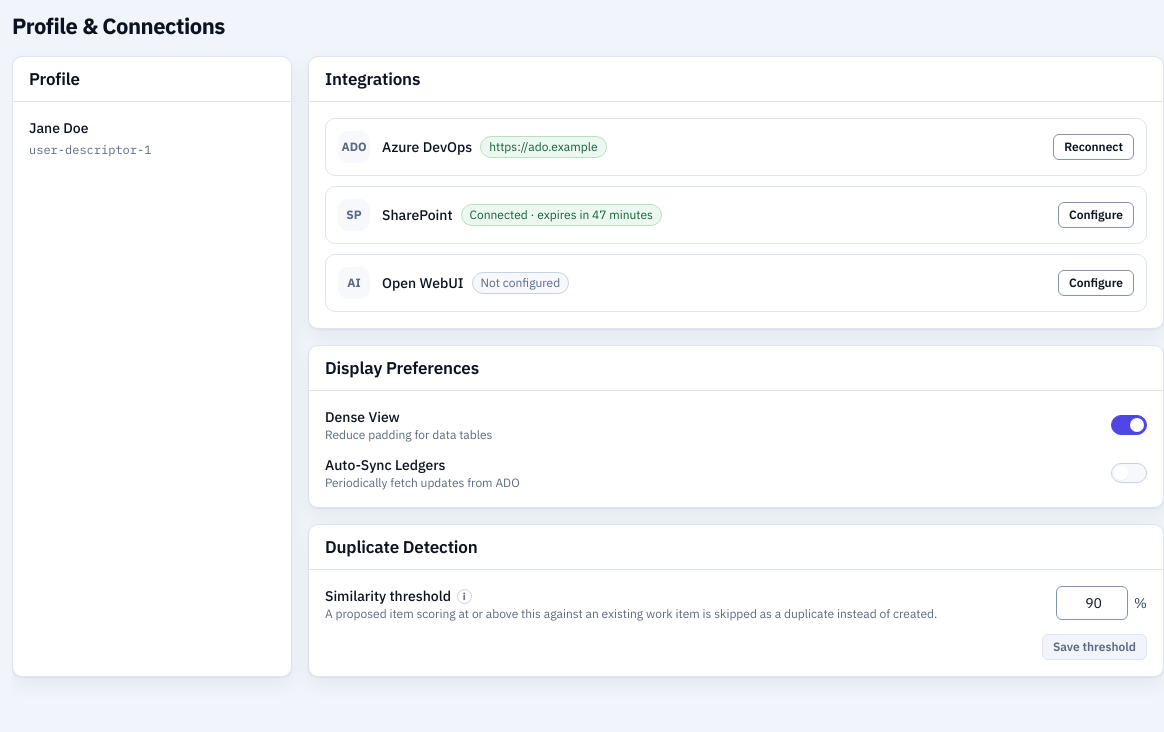
Test: Settings › Duplicate Detection threshold (NEW-07) › shows an inline error and does not crash when the save fails
Replace the text in the number field named "similarity threshold percentage" with "80" at (1092, 603), box x1=1056 y1=586 x2=1128 y2=620
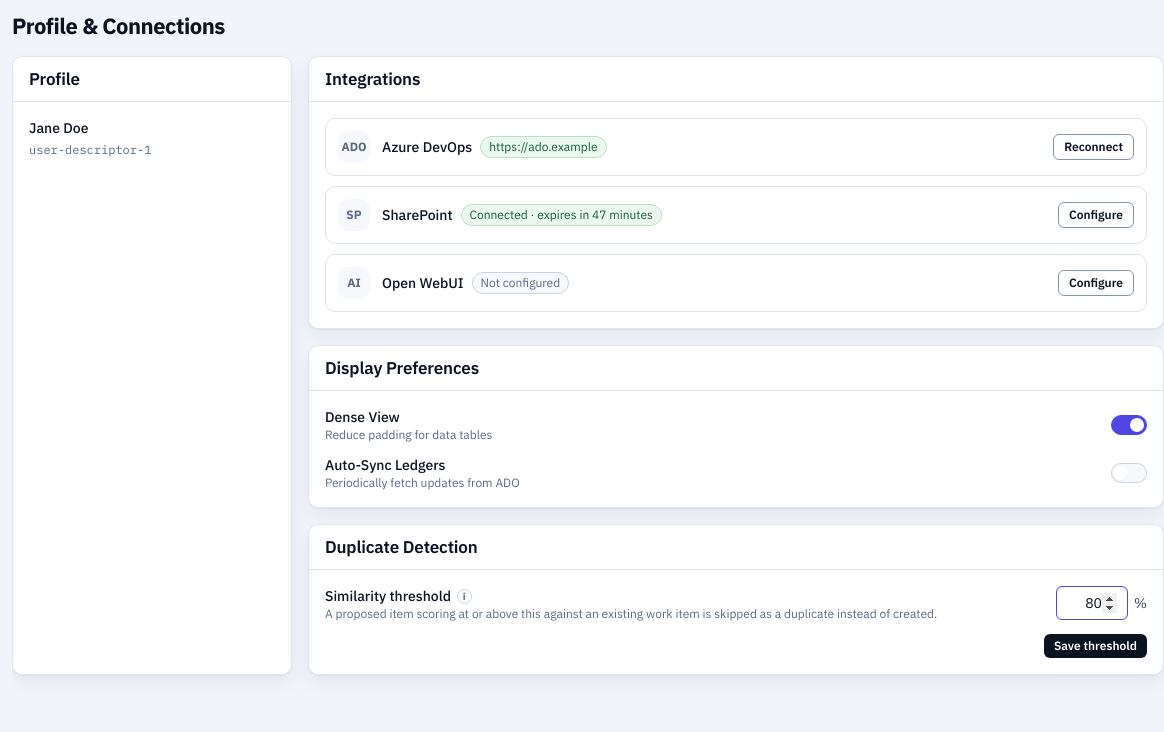
Click the button "Save threshold".
click(1095, 646)  # box x1=1044 y1=634 x2=1147 y2=658
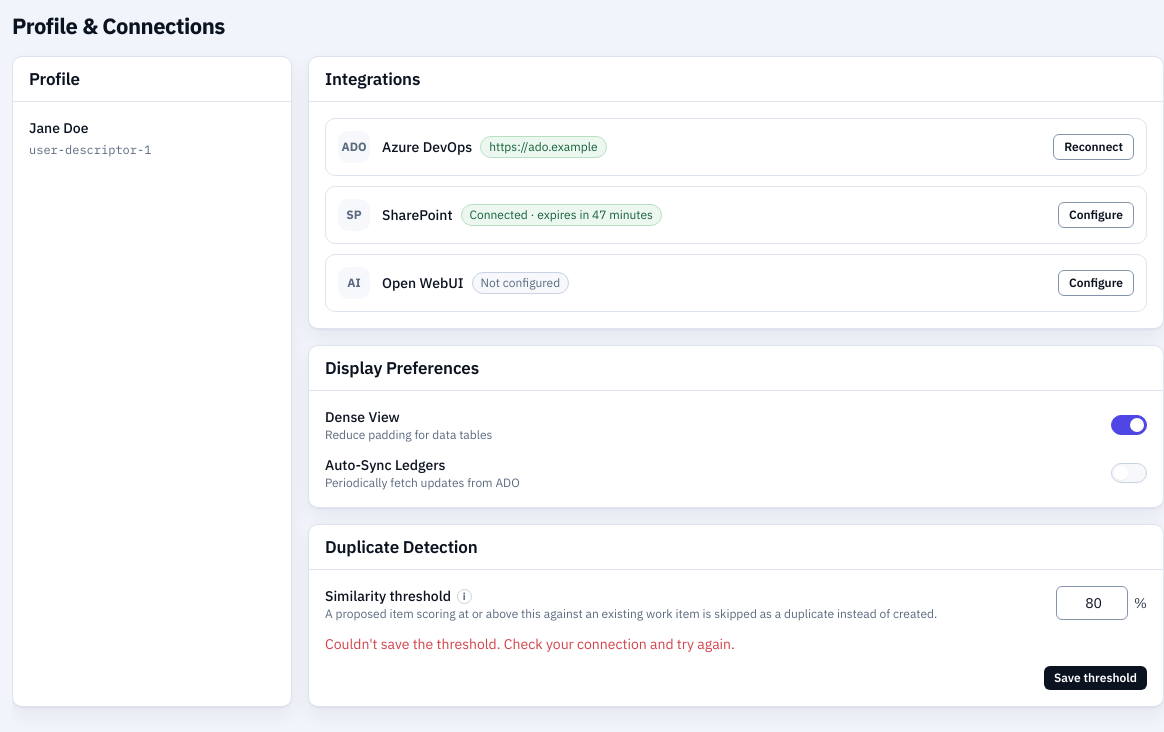
Check: the text "Couldn't save the threshold" is shown, box x1=325 y1=635 x2=735 y2=653
